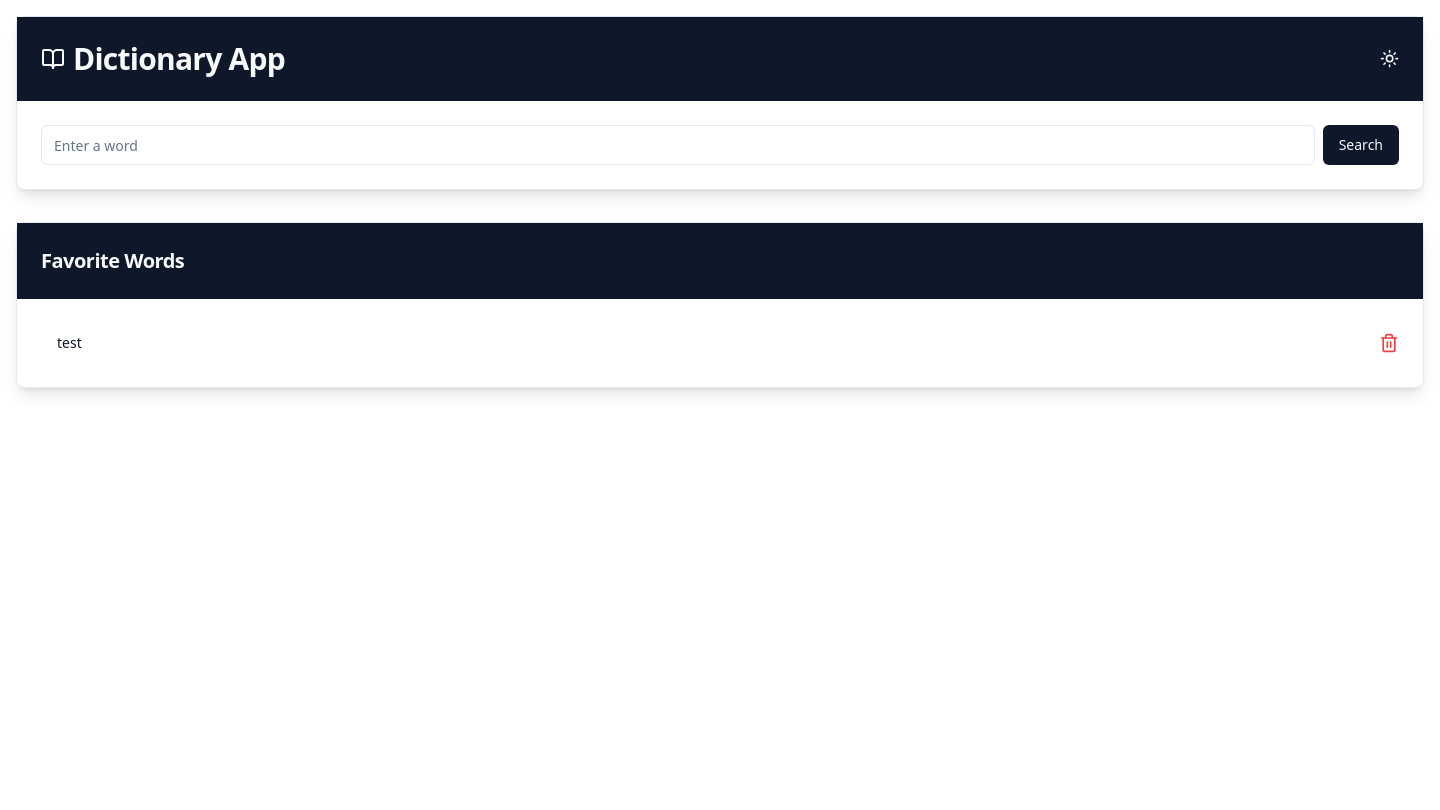
Test case: Dictionary Component › clears the search field after each search
Type "example" into the field with placeholder "Enter a word" at (678, 145), box [41,125,1315,165]
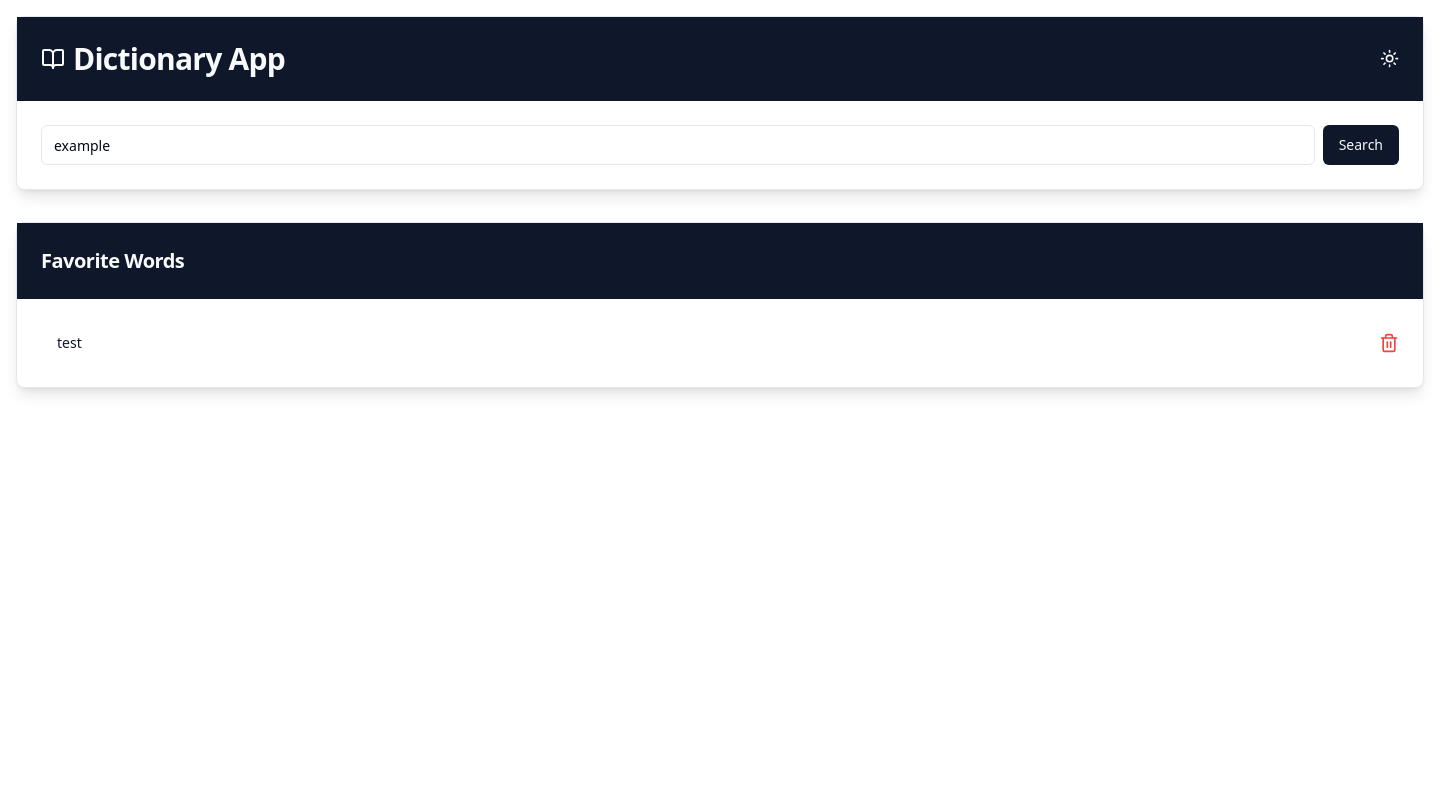
Click the button "Search" at (1361, 145), box [1323,125,1399,165]
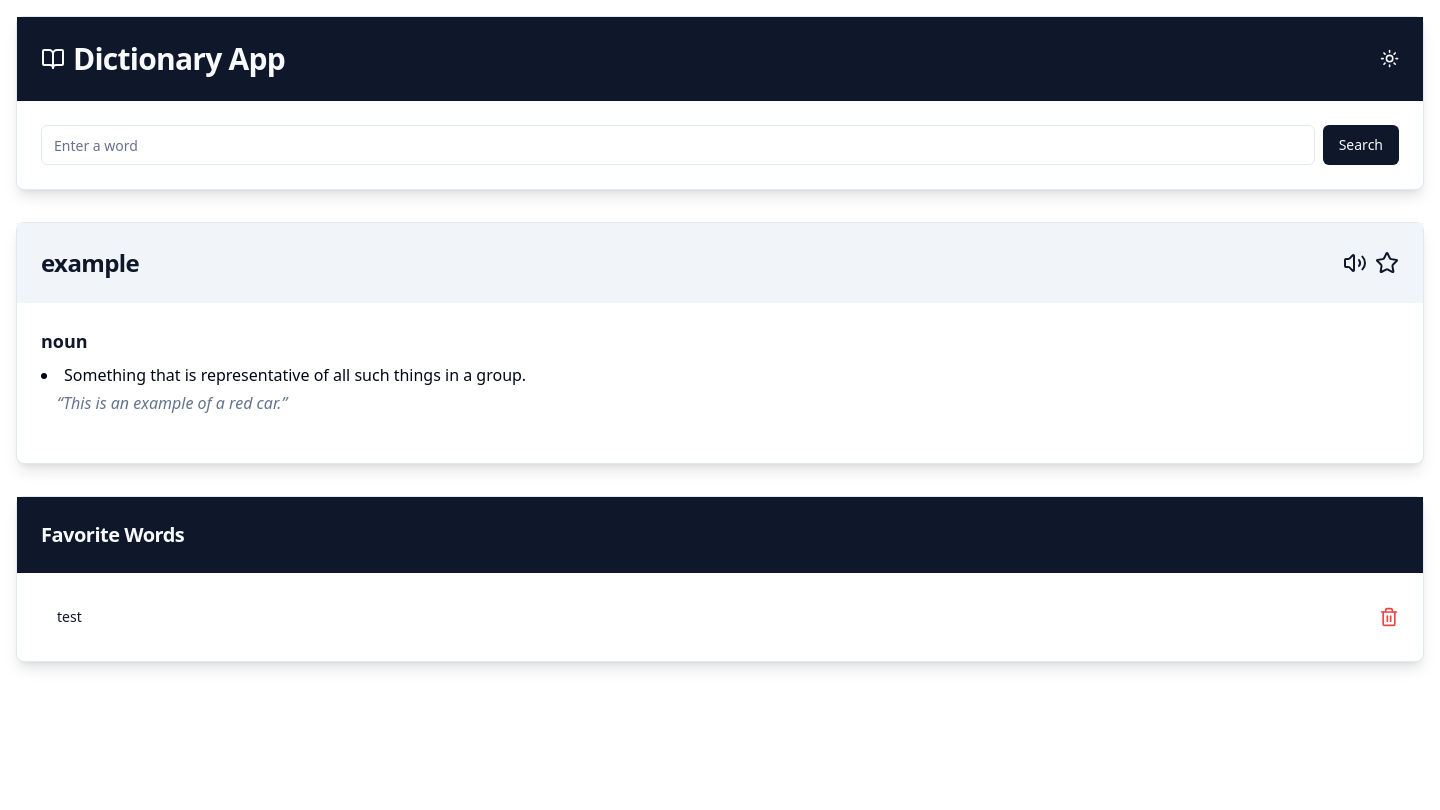
Expected: the text "example" is shown, [41,247,139,279]
Expected: the field with placeholder "Enter a word" is empty
# Test with a failed search
Type "nonexistentword" into the field with placeholder "Enter a word" at (678, 145), box [41,125,1315,165]
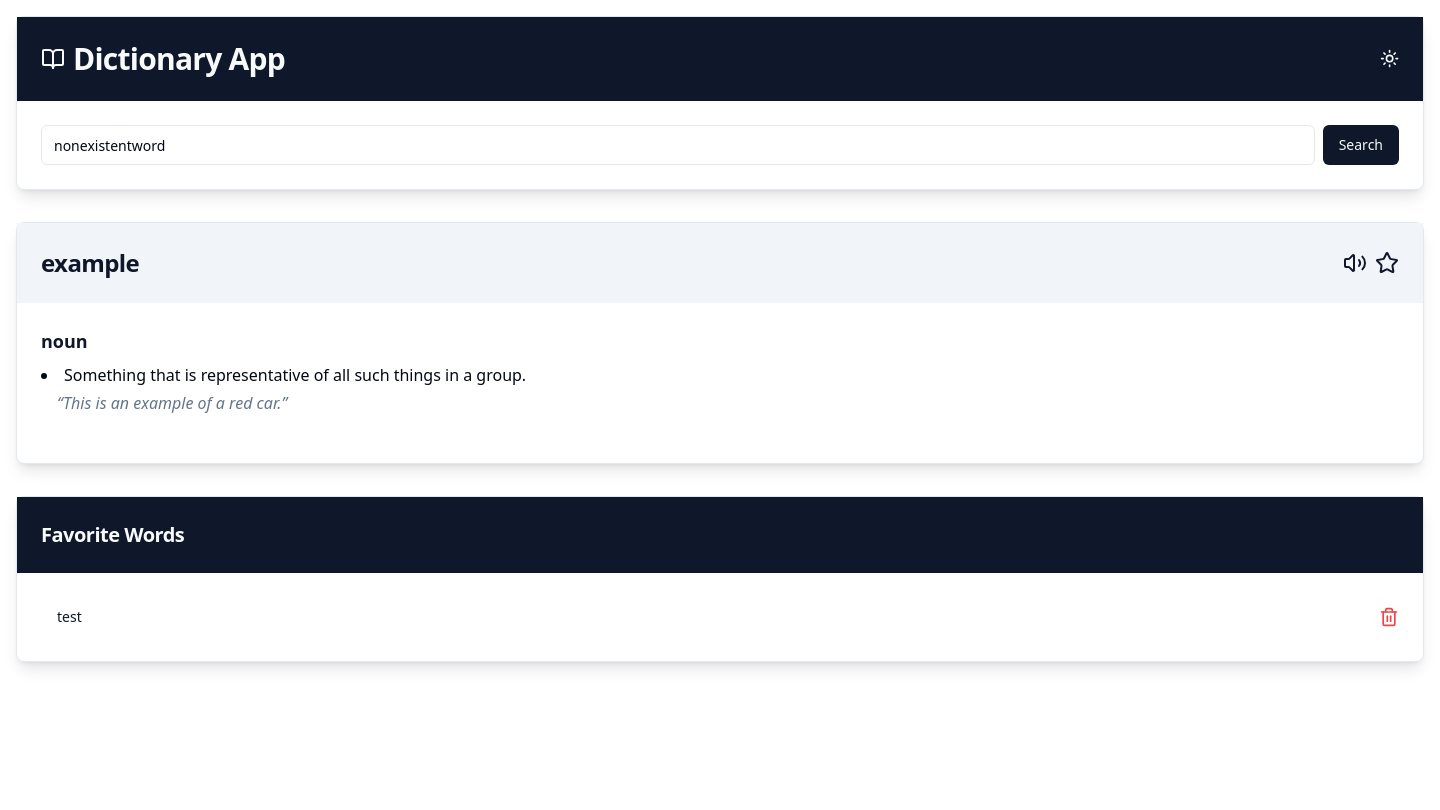
Click the button "Search" at (1361, 145), box [1323,125,1399,165]
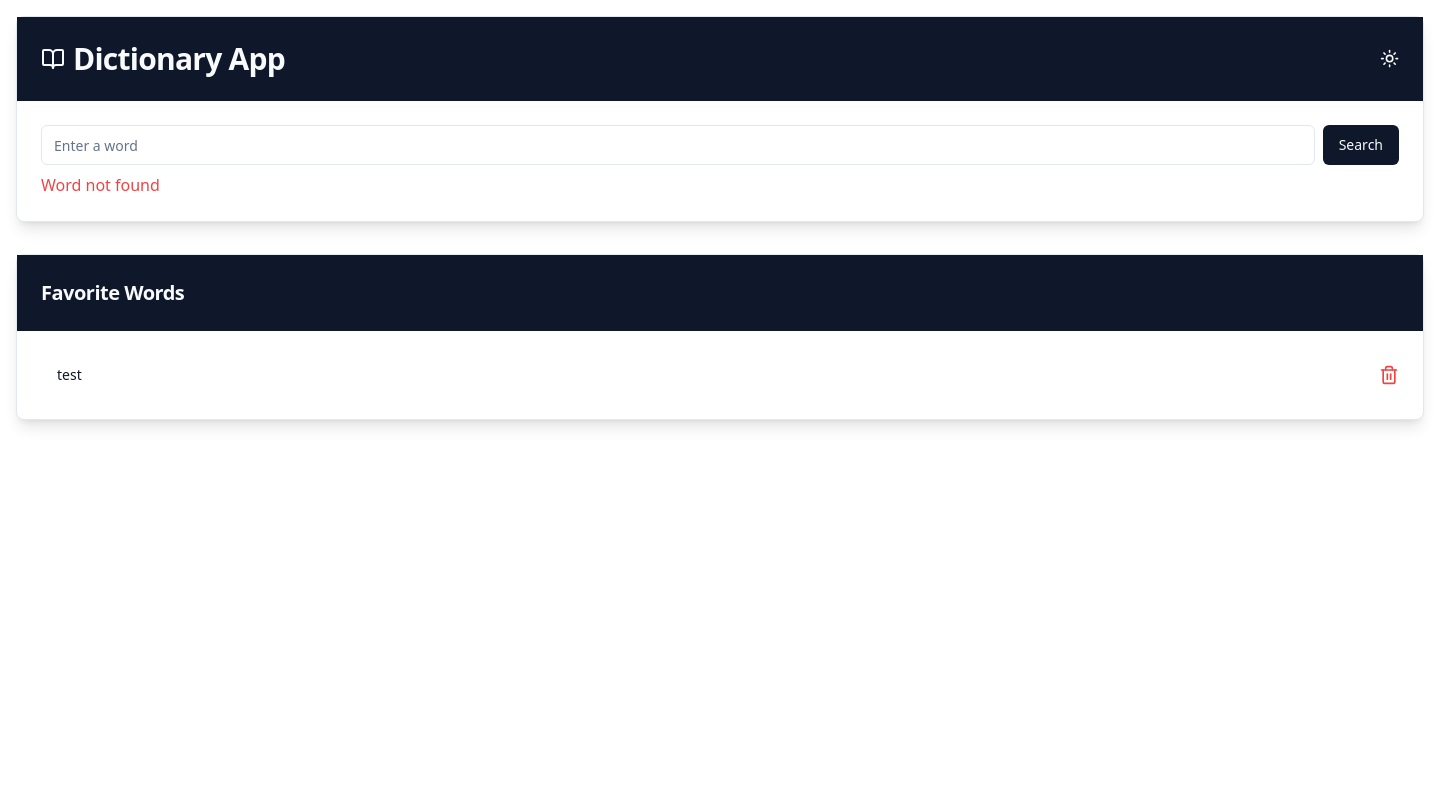
Expected: the text "Word not found" is shown, [41,174,160,196]
Expected: the field with placeholder "Enter a word" is empty, [41,125,1315,165]
